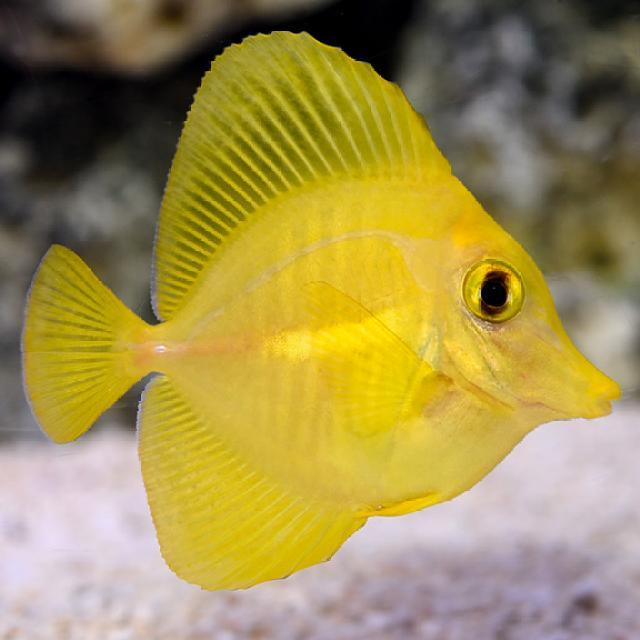YellowTang: (20, 13, 621, 591)
